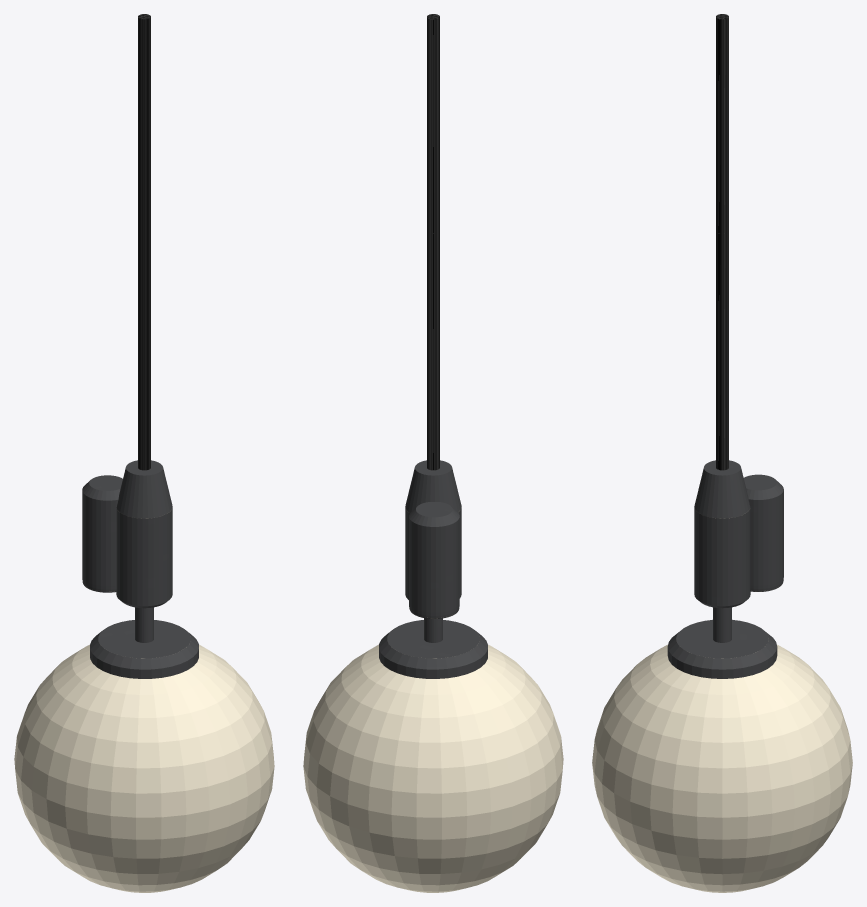
The model's file is fan.obj.
3 views of the same model, side by side, from view 1: azimuth 30°, elevation 25°; view 2: azimuth 150°, elevation 25°; view 3: azimuth 270°, elevation 25° (orthographic).
Visible parts, largest first — view 1: Sphere; view 2: Sphere; view 3: Sphere.
Part boxes in pixels (bbox=[...]): Sphere: bbox=[14, 14, 274, 892]; Sphere: bbox=[303, 14, 563, 892]; Sphere: bbox=[592, 14, 852, 892].
Bounding box in the file's own units: 2 × 7.31 × 2.
